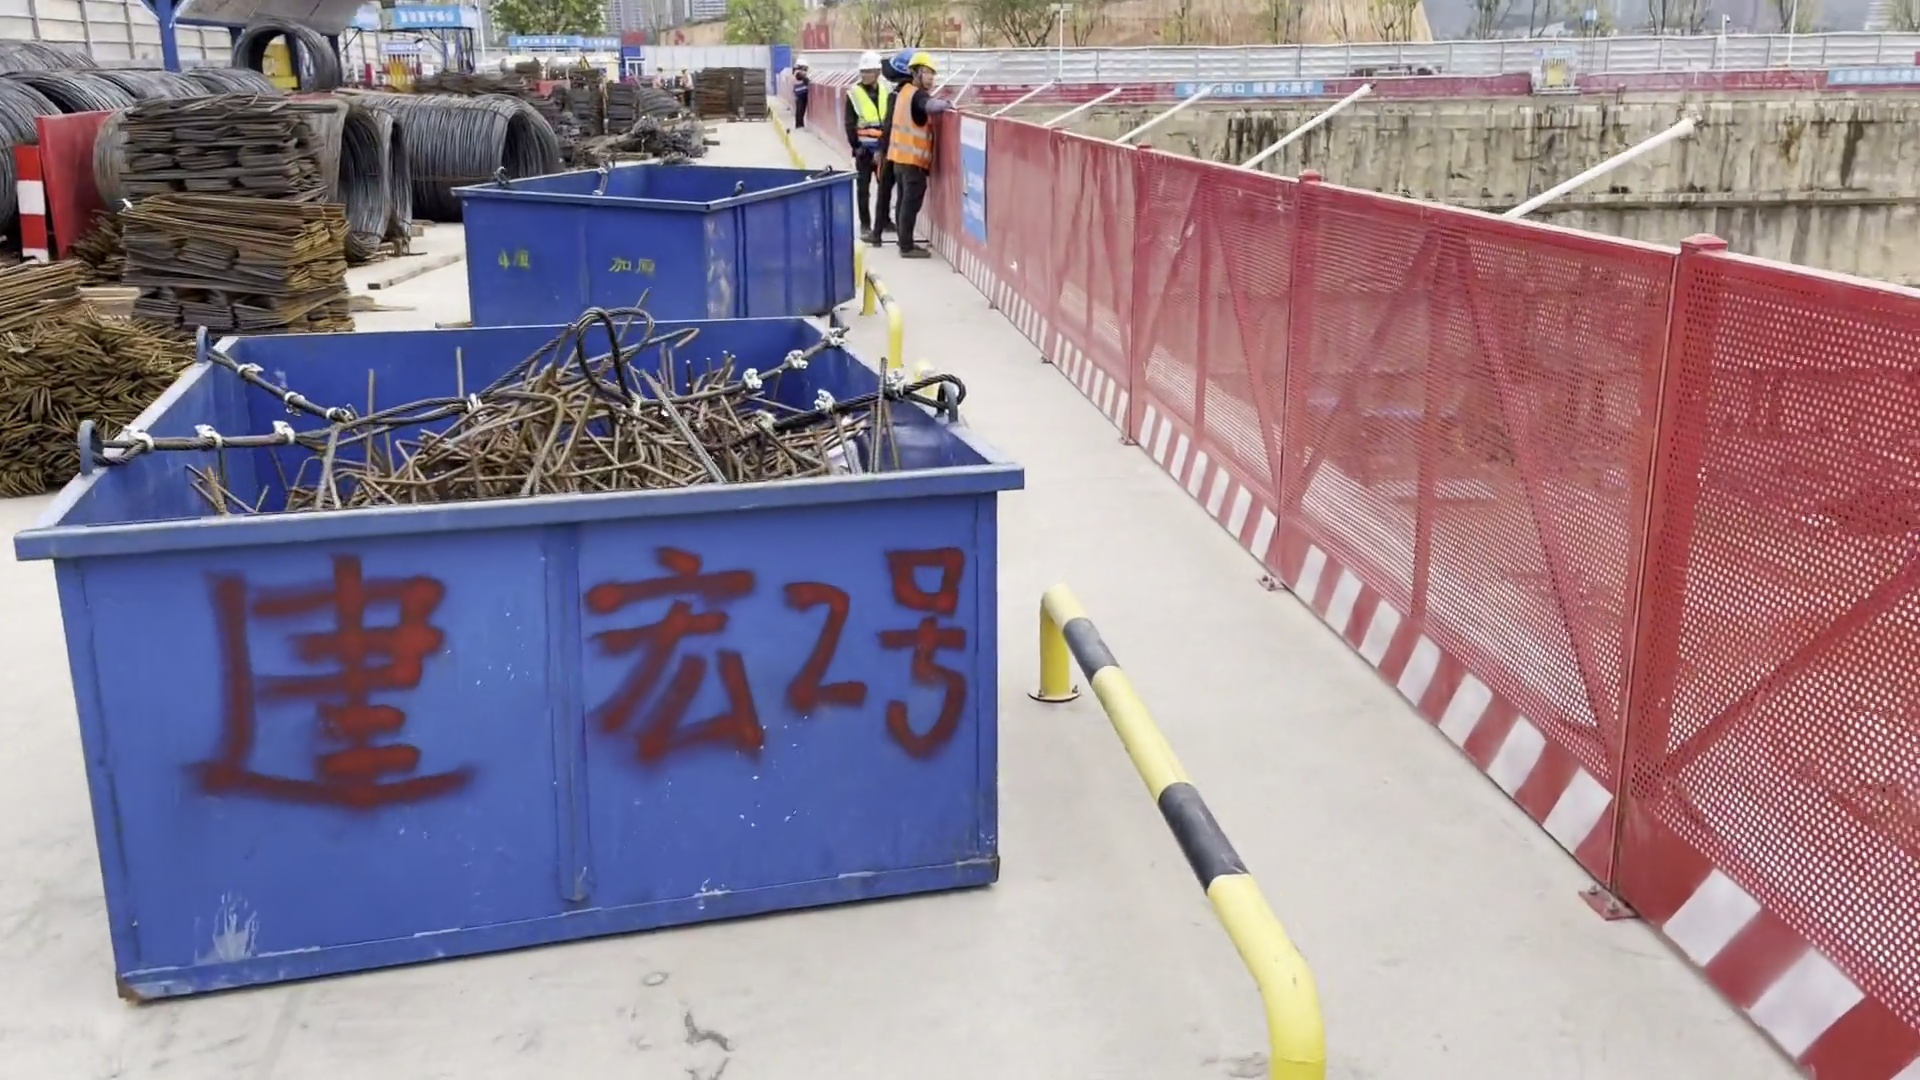fence: (800, 80, 1918, 1080), (963, 68, 1920, 111)
helmet: (911, 55, 937, 72), (857, 51, 880, 70), (891, 51, 910, 70), (797, 60, 809, 69), (656, 65, 663, 73), (681, 67, 687, 73)
hopper: (14, 295, 1037, 1012), (451, 157, 852, 346)
person: (888, 55, 950, 252), (848, 50, 912, 227), (787, 53, 813, 132), (680, 66, 694, 99), (650, 66, 667, 89)
slogan: (1177, 80, 1326, 97)
vest: (888, 90, 937, 164), (848, 86, 887, 148), (794, 71, 809, 100), (682, 74, 693, 92), (653, 73, 663, 89)
